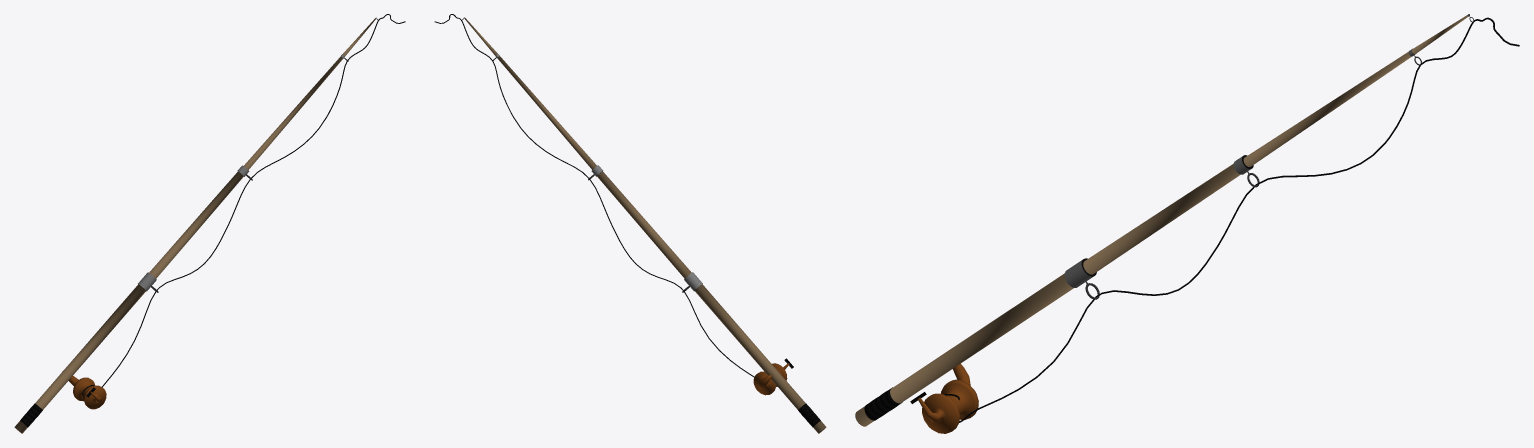
The model's file is fishing rods.fbx.
3 views of the same model, side by side, from view 1: azimuth 30°, elevation 25°; view 2: azimuth 150°, elevation 25°; view 3: azimuth 330°, elevation 25° (orthographic). The views are drawn at different scales.
Visible parts, largest first — view 1: NurbsPath; view 2: NurbsPath; view 3: NurbsPath.
Part boxes in pixels (left/top/right/bottom): NurbsPath: left=14, top=14, right=405, bottom=433; NurbsPath: left=434, top=14, right=826, bottom=433; NurbsPath: left=855, top=14, right=1519, bottom=433.
Bounding box in the file's own units: 556 × 448 × 64.08.
